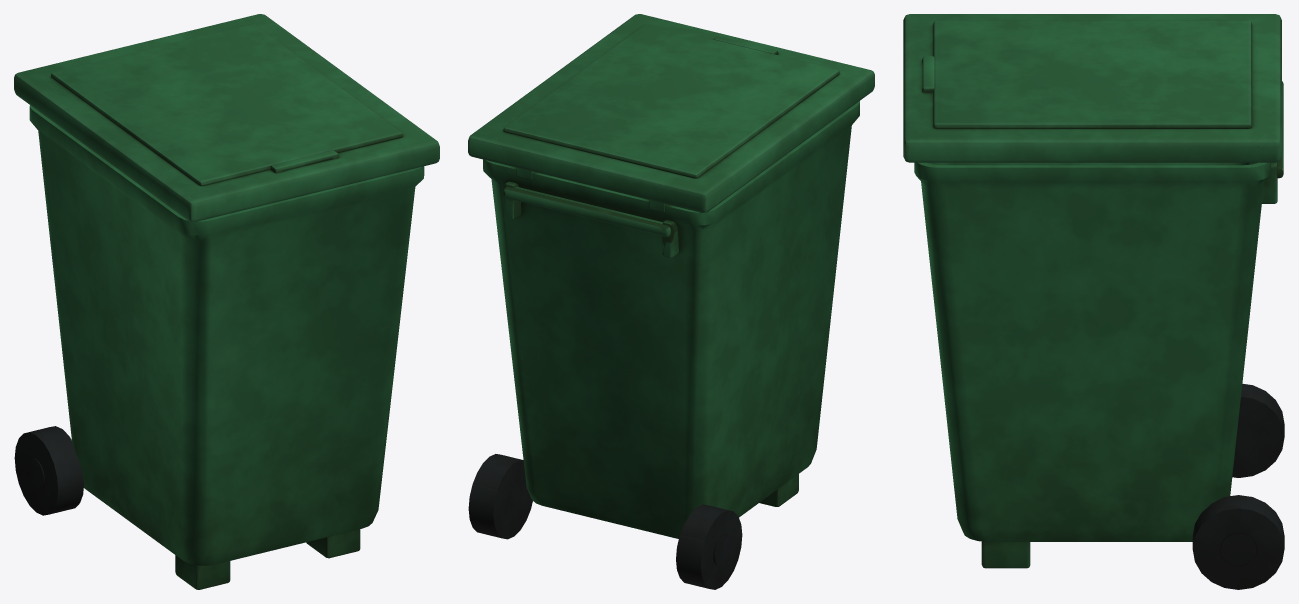
File: contentor_lixo_sujo_realista.glb
3 renders of one model, left to right at view 1: azimuth 30°, elevation 25°; view 2: azimuth 150°, elevation 25°; view 3: azimuth 270°, elevation 25°, orthographic. The views are drawn at different scales.
Parts seen in each view (by area): view 1: Corpo, Tampa, Rodas; view 2: Corpo, Tampa, Rodas; view 3: Corpo, Tampa, Rodas.
Part boxes in pixels (left/top/right/bottom): Corpo: left=29, top=105, right=424, bottom=589; Tampa: left=14, top=14, right=439, bottom=221; Rodas: left=14, top=426, right=84, bottom=515; Corpo: left=483, top=101, right=859, bottom=538; Tampa: left=468, top=14, right=874, bottom=212; Rodas: left=468, top=454, right=742, bottom=589; Corpo: left=914, top=81, right=1283, bottom=568; Tampa: left=903, top=14, right=1281, bottom=162; Rodas: left=1192, top=383, right=1284, bottom=589.
Size of the model in its own units: 0.58 by 0.95 by 0.72.
1 material, 1 textured.
